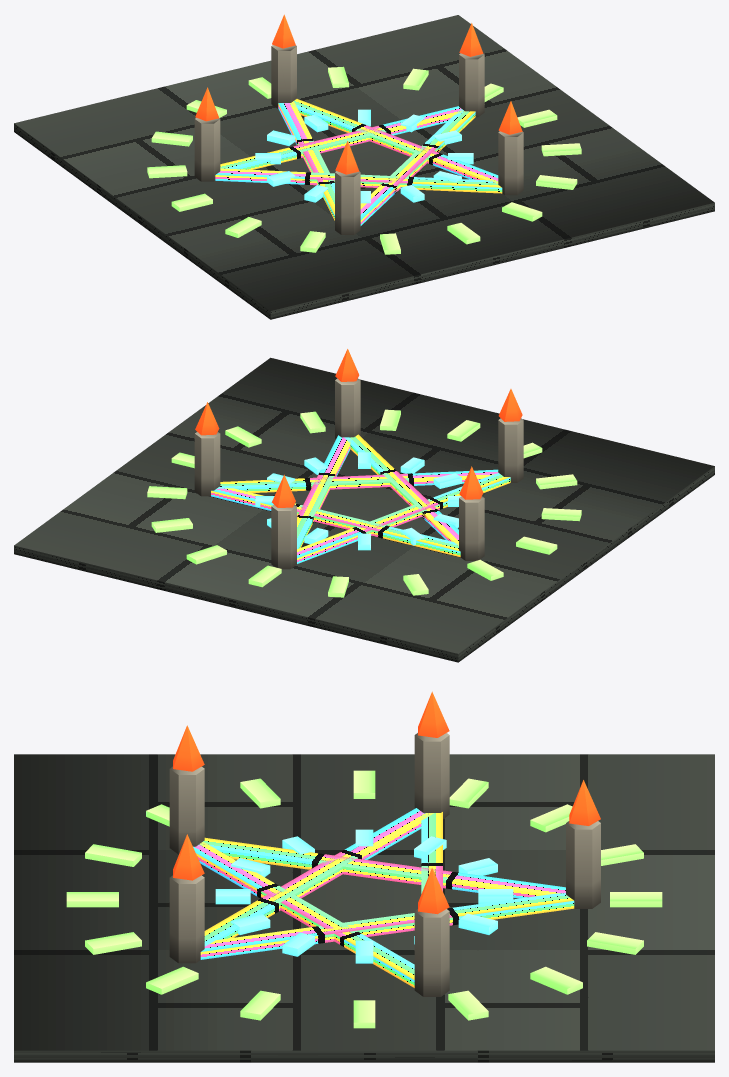
File: summoning_circle.glb
The picture shows the model from 3 angles, top to bottom: view 1: azimuth 30°, elevation 25°; view 2: azimuth 150°, elevation 25°; view 3: azimuth 270°, elevation 25°; orthographic projection. The views are drawn at different scales.
Parts seen in each view (by area): view 1: summoning_circle; view 2: summoning_circle; view 3: summoning_circle.
Boxes of the visible parts, x1,y1,x2,y2 form: summoning_circle: [14, 14, 714, 319]; summoning_circle: [14, 349, 714, 662]; summoning_circle: [14, 691, 714, 1062].
Size of the model in its own units: 1.6 by 0.34 by 1.6.
Materials: 1 (1 with a texture image).
